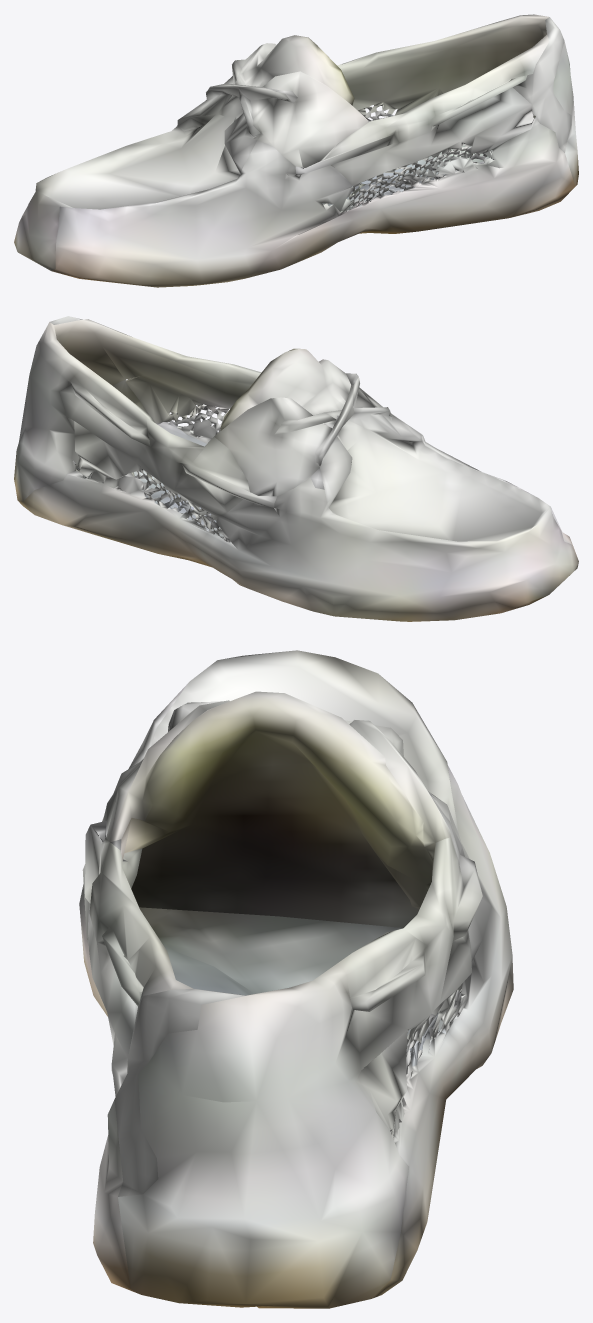
Rendered from Womens_Bluefish_2Eye_Boat_Shoe_in_White_Tumbled_YG44xIePRHw-medium.glb.
The picture shows the model from 3 angles, top to bottom: view 1: azimuth 30°, elevation 25°; view 2: azimuth 150°, elevation 25°; view 3: azimuth 270°, elevation 25°; orthographic projection. The views are drawn at different scales.
Parts seen in each view (by area): view 1: Womens_Bluefish_2Eye_Boat_Shoe_in_White_Tumbled_YG44xIePRHw; view 2: Womens_Bluefish_2Eye_Boat_Shoe_in_White_Tumbled_YG44xIePRHw; view 3: Womens_Bluefish_2Eye_Boat_Shoe_in_White_Tumbled_YG44xIePRHw.
Part boxes in pixels (x1=…): Womens_Bluefish_2Eye_Boat_Shoe_in_White_Tumbled_YG44xIePRHw: x1=14, y1=14, x2=578, y2=287; Womens_Bluefish_2Eye_Boat_Shoe_in_White_Tumbled_YG44xIePRHw: x1=14, y1=316, x2=578, y2=621; Womens_Bluefish_2Eye_Boat_Shoe_in_White_Tumbled_YG44xIePRHw: x1=79, y1=650, x2=513, y2=1308.
Bounding box in the file's own units: 0.2506 × 0.0869 × 0.0883.
1 material, 1 textured.
